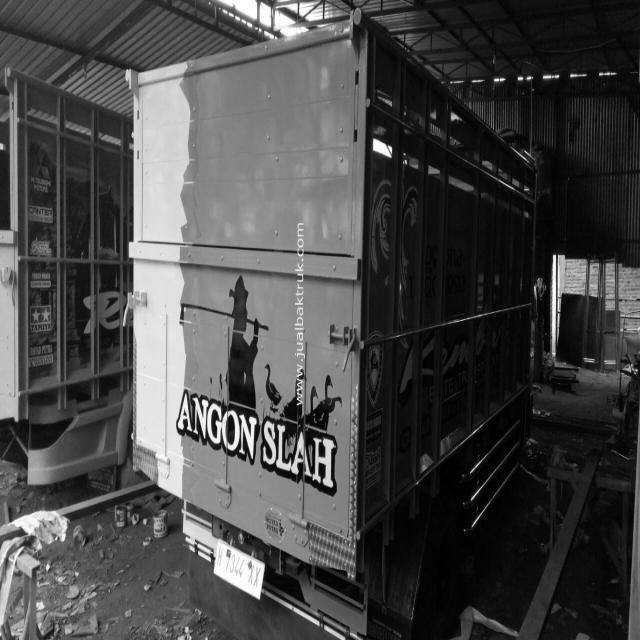truck: (119, 36, 541, 640)
